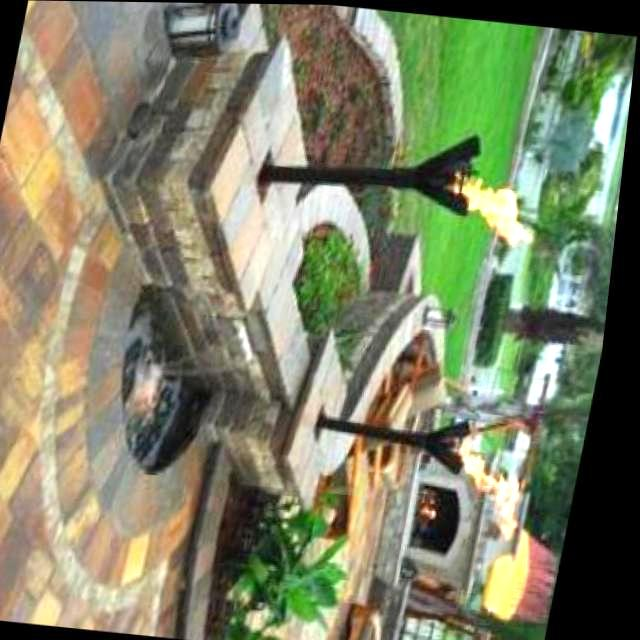fire: (444, 438, 548, 538), (453, 165, 559, 253)
